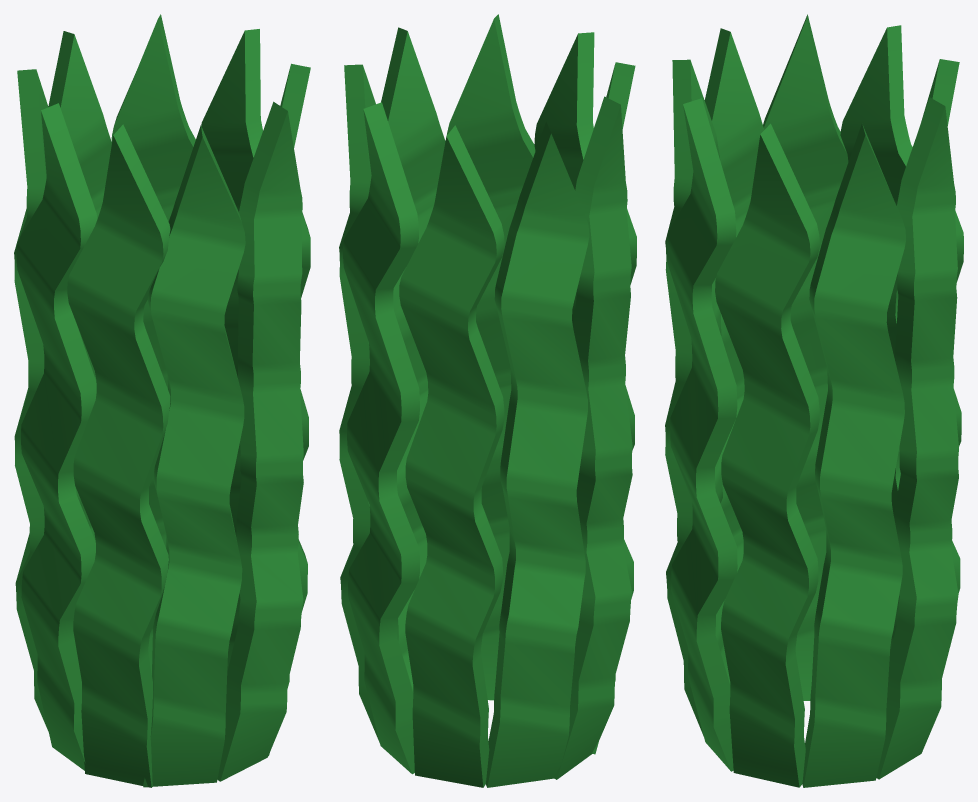
Rendered from Algas_01.fbx.
The picture shows the model from 3 angles, left to right: view 1: azimuth 30°, elevation 25°; view 2: azimuth 150°, elevation 25°; view 3: azimuth 270°, elevation 25°; orthographic projection.
Visible parts, largest first — view 1: Cube.012, Cube.013, Cube.011, Cube, Cube.006, Cube.007, Cube.004, Cube.005, Cube.008; view 2: Cube.004, Cube.005, Cube.006, Cube, Cube.011, Cube.008, Cube.007, Cube.012, Cube.013; view 3: Cube.007, Cube.008, Cube.006, Cube.011, Cube, Cube.012, Cube.013, Cube.004, Cube.005.
Boxes of the visible parts, x1,y1,x2,y2 form: Cube.012: (143, 125, 245, 787); Cube.013: (67, 124, 170, 787); Cube.011: (217, 101, 303, 781); Cube: (16, 103, 97, 770); Cube.006: (111, 14, 195, 674); Cube.007: (201, 29, 262, 670); Cube.004: (14, 69, 48, 730); Cube.005: (48, 31, 111, 540); Cube.008: (268, 63, 310, 755); Cube.004: (486, 122, 589, 787); Cube.005: (399, 125, 504, 787); Cube.006: (343, 102, 419, 774); Cube: (553, 96, 632, 779); Cube.011: (446, 14, 535, 700); Cube.008: (381, 27, 445, 689); Cube.007: (339, 64, 413, 742); Cube.012: (534, 32, 594, 328); Cube.013: (592, 62, 636, 754); Cube.007: (802, 123, 905, 787); Cube.008: (715, 123, 819, 787); Cube.006: (876, 97, 958, 779); Cube.011: (666, 98, 737, 771); Cube: (763, 14, 848, 700); Cube.012: (665, 59, 730, 736); Cube.013: (704, 28, 764, 572); Cube.004: (840, 25, 912, 651); Cube.005: (921, 59, 963, 751).
Bounding box in the file's own units: 14.62 × 36.38 × 14.72.
